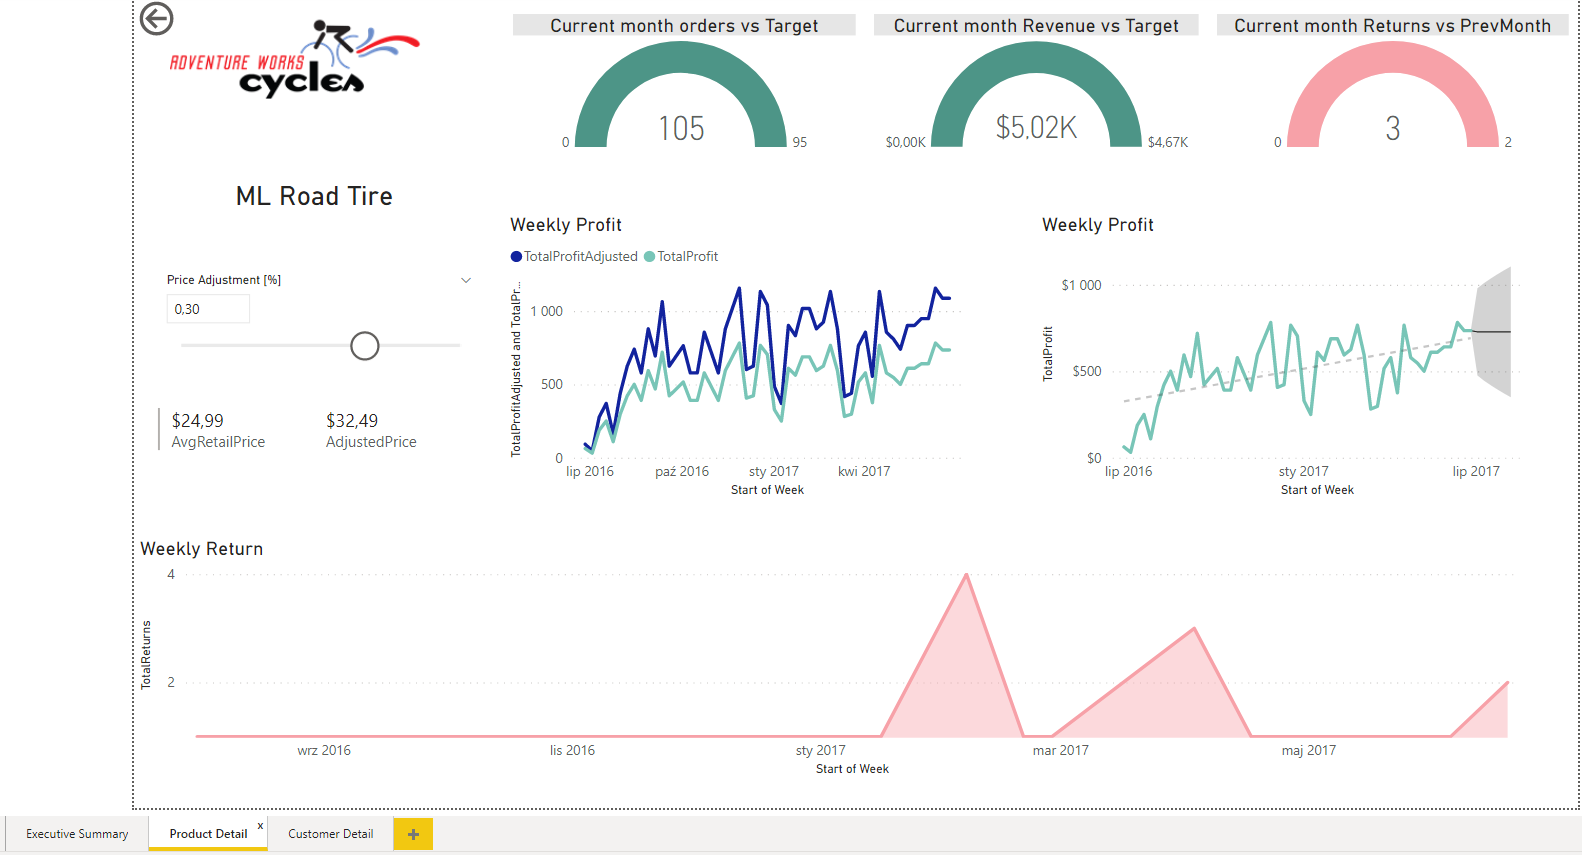

This screenshot's page, from the dashboard's own definition file:
{"tool":"powerbi","page":{"name":"Product Detail","canvas":[1280,720],"ordinal":1},"visuals":[{"type":"image","box":[0,16,288,80],"z":0},{"type":"lineChart","title":"Weekly Profit","fields":{"Y":["AW_Sales.TotalProfit"],"Category":["AW_Calendar_Lookup.Start of Week"]},"box":[800,192,448,256],"z":1000},{"type":"stackedAreaChart","title":"Weekly Return","fields":{"Category":["AW_Calendar_Lookup.Start of Week"],"Y":["AW_Returns.TotalReturns"]},"box":[0,480,1248,216],"z":2000},{"type":"gauge","title":"Current month orders vs Target","fields":{"Y":["AW_Sales.TotalOrders"],"MaxValue":["AW_Sales.OrderTarget"]},"box":[336,16,304,128],"z":3000},{"type":"gauge","title":"Current month Revenue vs Target","fields":{"Y":["AW_Sales.TotalRevenue"],"MaxValue":["AW_Sales.RevenueTarget"]},"box":[656,16,288,128],"z":4000},{"type":"gauge","title":"Current month Returns vs PrevMonth","fields":{"Y":["AW_Returns.TotalReturns"],"MaxValue":["AW_Returns.PrevMonthReturns"]},"box":[960,16,312,128],"z":5000},{"type":"actionButton","box":[0,0,40,40],"z":6000},{"type":"slicer","fields":{"Values":["Price Adjustment [%].Price Adjustment [%]"]},"box":[16,240,296,104],"z":7000},{"type":"multiRowCard","fields":{"Values":["AW_Product_Lookup.AvgRetailPrice","AW_Product_Lookup.AdjustedPrice"]},"box":[16,360,296,48],"z":8000},{"type":"lineChart","title":"Weekly Profit","fields":{"Y":["AW_Sales.TotalProfitAdjusted","AW_Sales.TotalProfit"],"Category":["AW_Calendar_Lookup.Start of Week"]},"box":[328,192,424,256],"z":9000},{"type":"card","fields":{"Values":["Min(AW_Product_Lookup.ProductName)"]},"box":[16,136,288,80],"z":10000}]}

Visuals, with their boxes on the page's 1280x720 design canvas (x1, y1, x2, y2). These are canvas units, not pixel positions in the 1582x855 screenshot, which may show the page scaled, cropped or inside an application window:
image: left=0, top=16, right=288, bottom=96
"Weekly Profit" lineChart: left=800, top=192, right=1248, bottom=448
"Weekly Return" stackedAreaChart: left=0, top=480, right=1248, bottom=696
"Current month orders vs Target" gauge: left=336, top=16, right=640, bottom=144
"Current month Revenue vs Target" gauge: left=656, top=16, right=944, bottom=144
"Current month Returns vs PrevMonth" gauge: left=960, top=16, right=1272, bottom=144
actionButton: left=0, top=0, right=40, bottom=40
slicer - Price Adjustment [%].Price Adjustment [%]: left=16, top=240, right=312, bottom=344
multiRowCard - AW_Product_Lookup.AvgRetailPrice x AW_Product_Lookup.AdjustedPrice: left=16, top=360, right=312, bottom=408
"Weekly Profit" lineChart: left=328, top=192, right=752, bottom=448
card - Min(AW_Product_Lookup.ProductName): left=16, top=136, right=304, bottom=216
